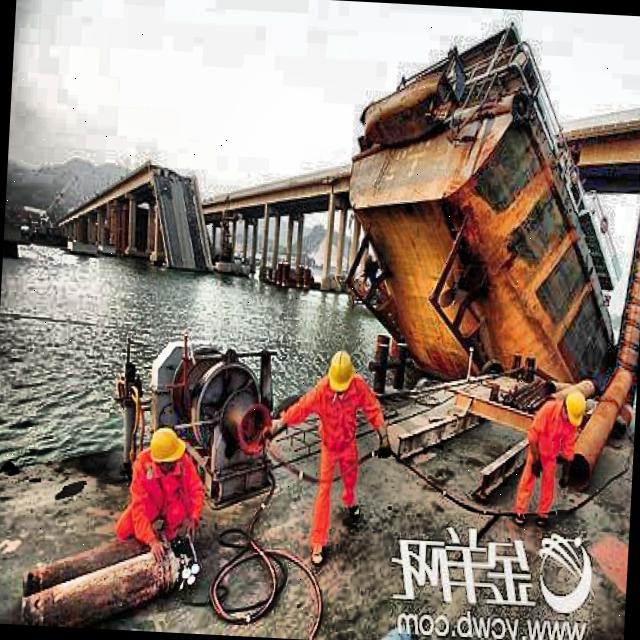helmet: (142, 422, 188, 476), (322, 345, 358, 400), (560, 391, 592, 428)
